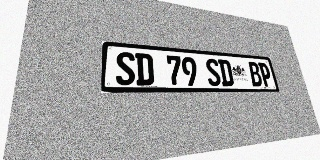7: (165, 55, 184, 86)
9: (181, 56, 199, 86)
B: (247, 62, 263, 86)
D: (135, 53, 154, 85), (218, 59, 235, 86)
P: (258, 62, 273, 86)
S: (116, 51, 136, 85), (205, 58, 222, 86)
